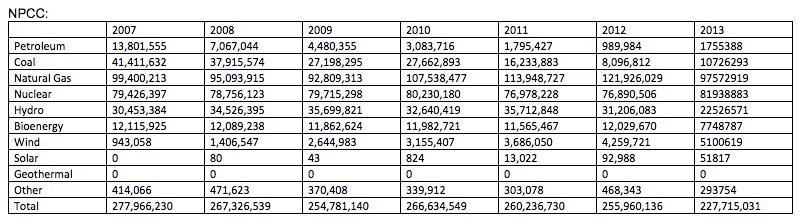fracking table: (5, 19, 795, 213)
